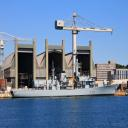Fragata: (11, 54, 122, 100)
